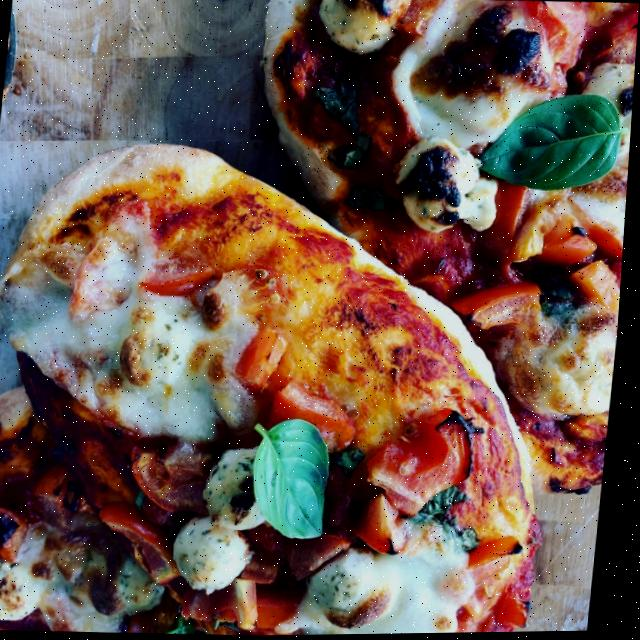basil: (479, 89, 626, 186), (250, 416, 340, 538), (418, 483, 492, 552), (147, 612, 199, 635)
pizza: (0, 129, 584, 640), (224, 0, 640, 502)
